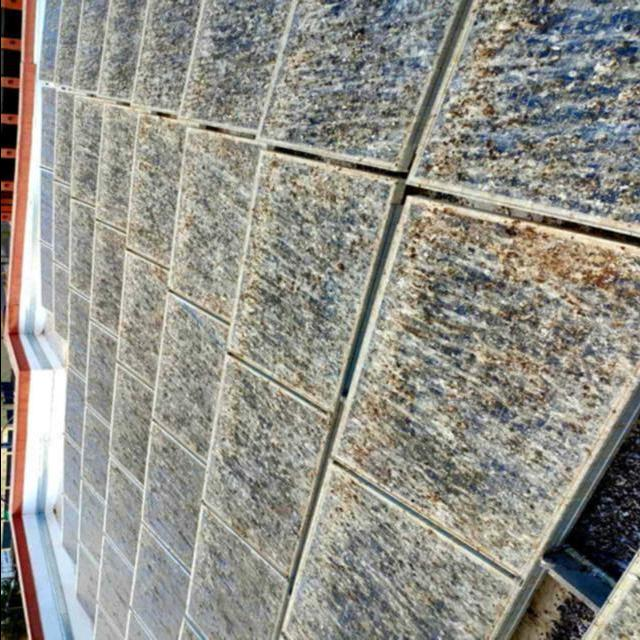soiled: (49, 4, 628, 632)
